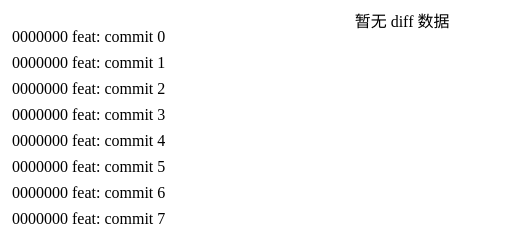
Test case: 22-18 BNDRY/binary-diff 占位渲染不崩 › DiffPayload kind=binary → BinaryDiffPlaceholder 含路径 + DiffViewer 不抛
Click the list item "0000000 feat: commit 0" at (89, 36), box 12,28 -> 165,45
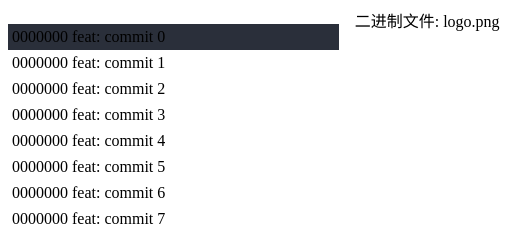
Now the text "二进制文件: logo.png" is shown, box 355,13 -> 500,30
